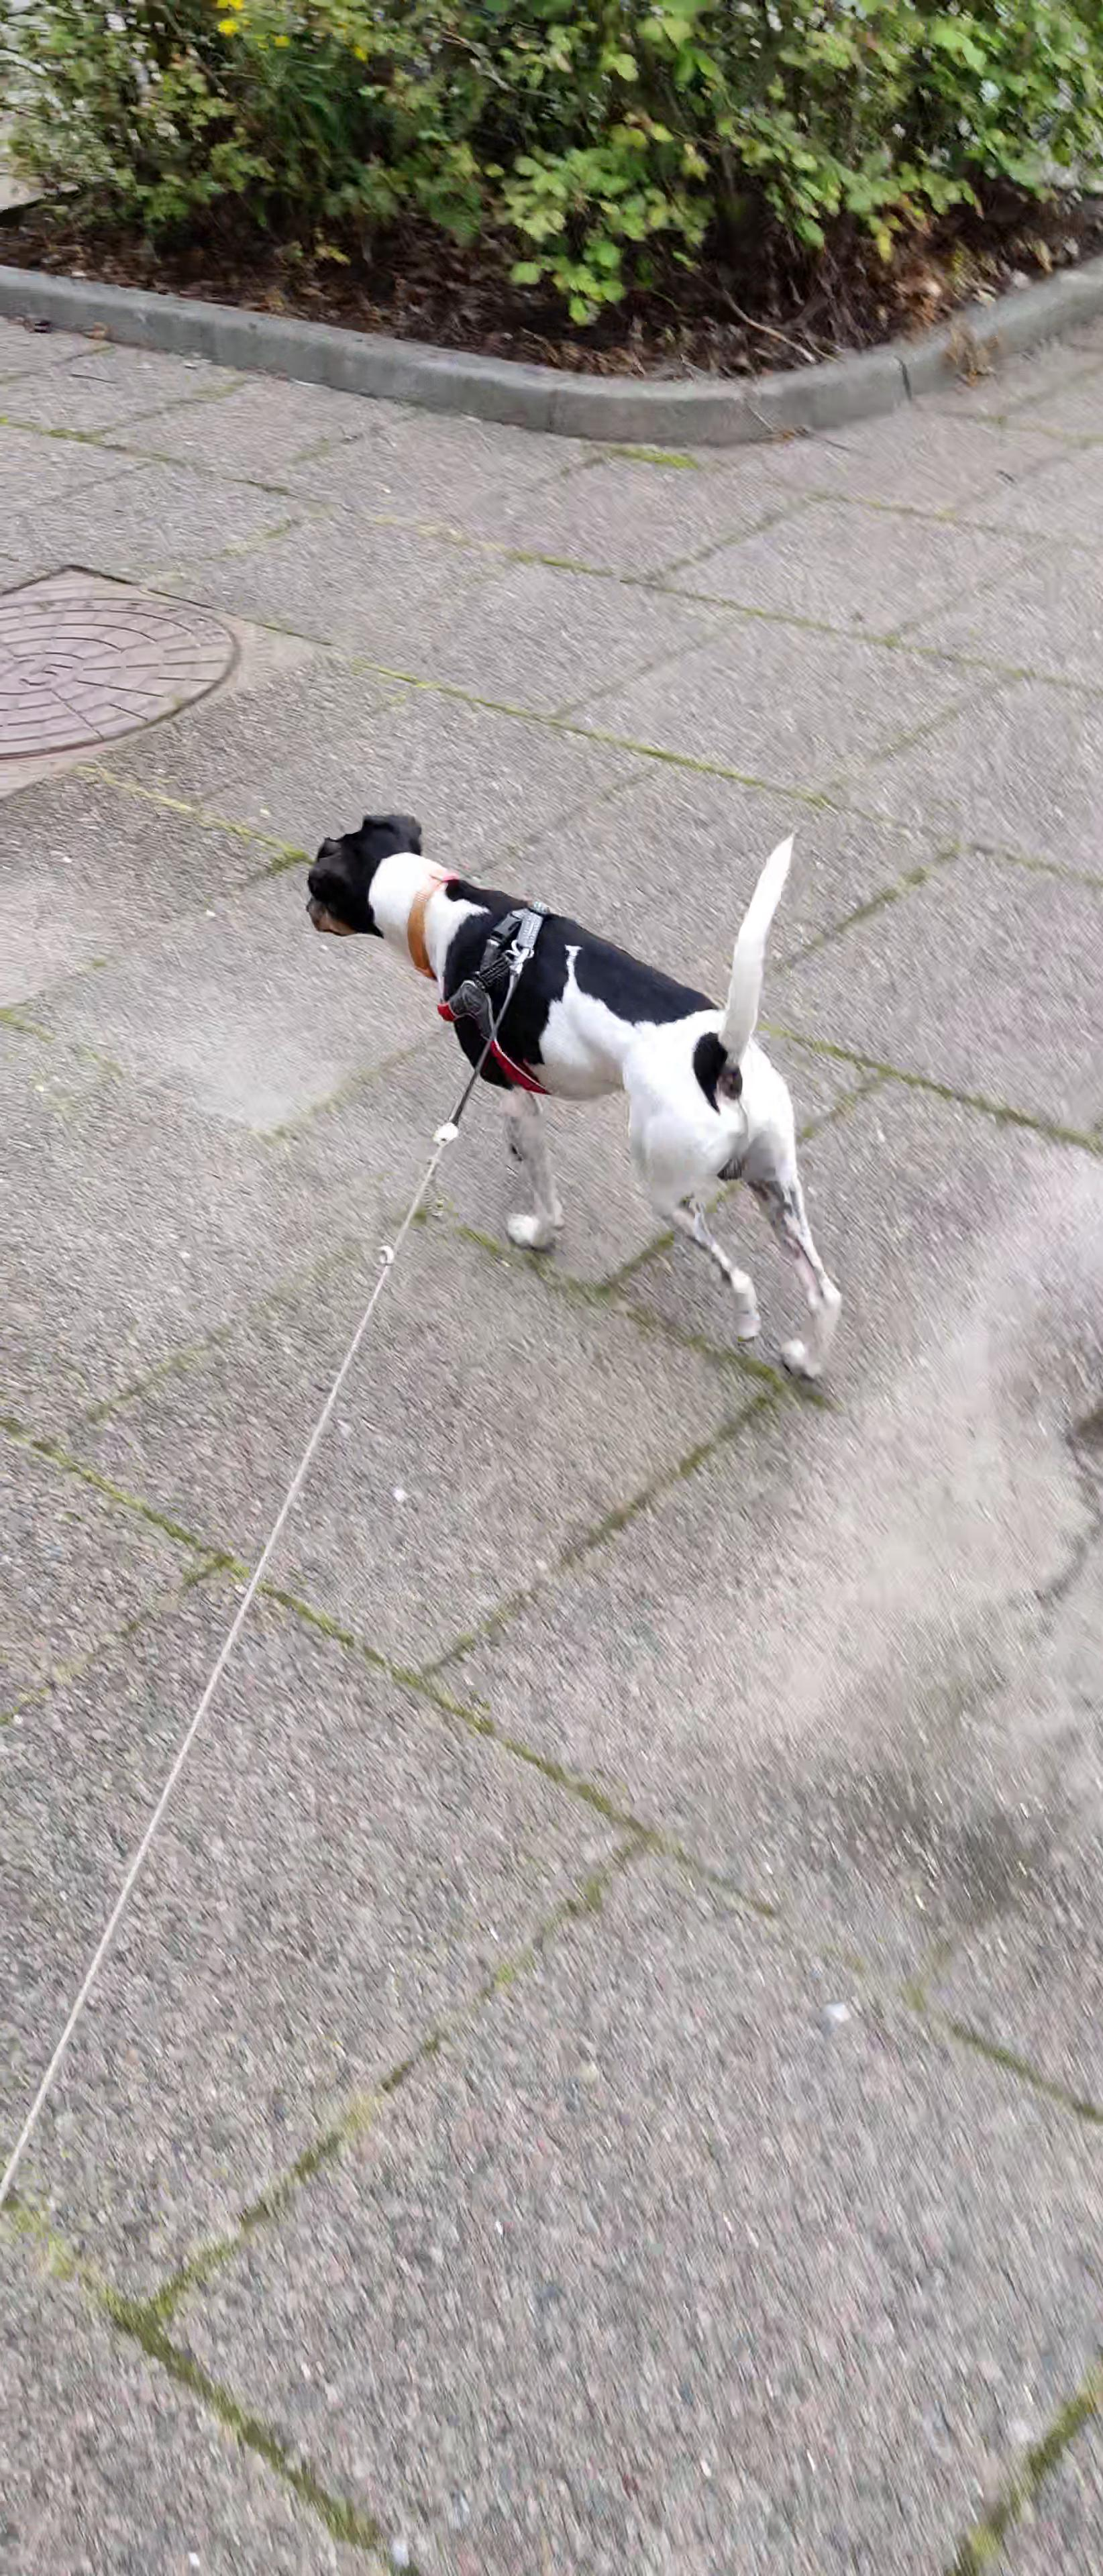Dog: (271, 766, 866, 1398)
